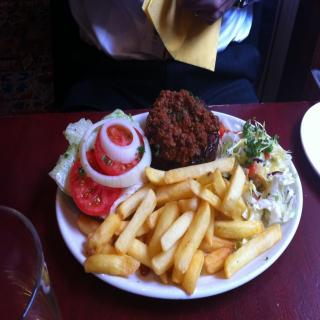French fries: (76, 152, 284, 295)
Tomato: (70, 152, 122, 217), (94, 120, 149, 180)
